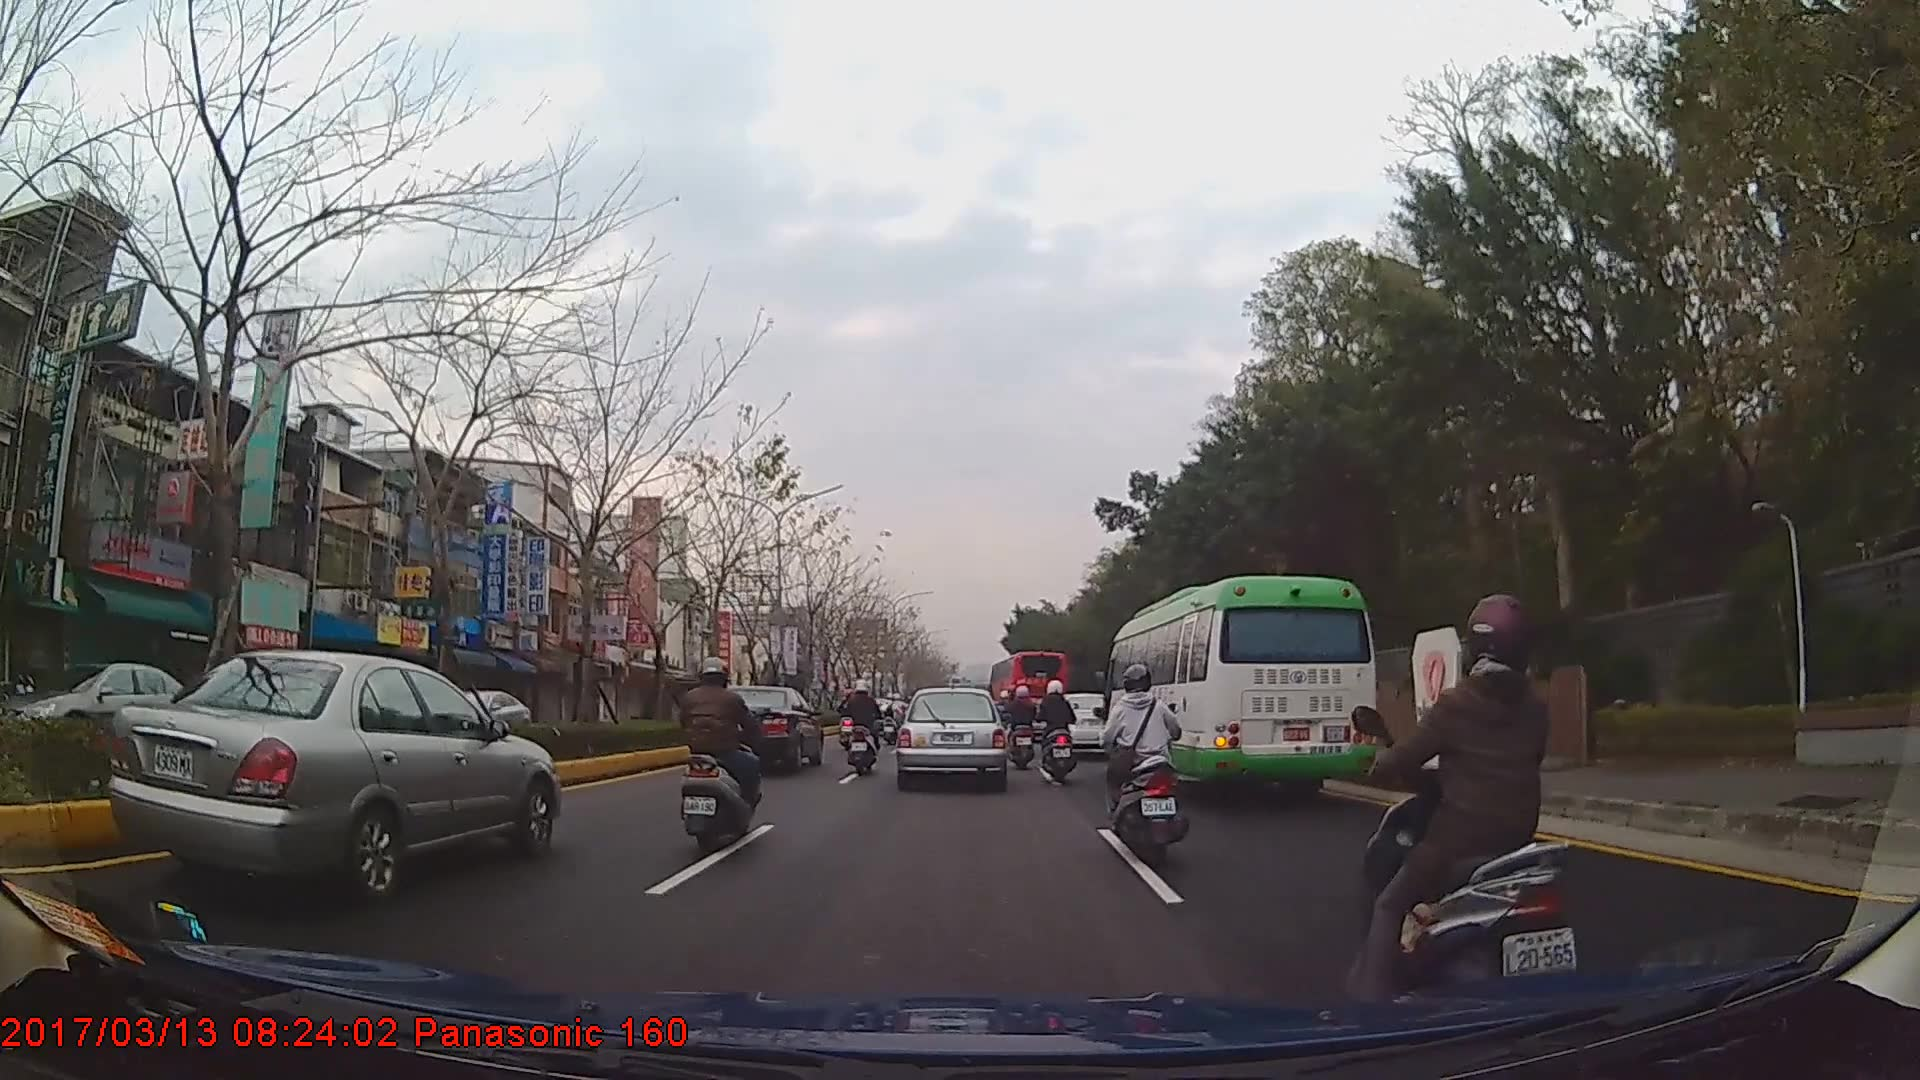rider: (1353, 589, 1583, 1029), (671, 656, 759, 859), (1105, 662, 1190, 868), (1036, 681, 1079, 784), (843, 679, 885, 774), (1006, 683, 1041, 772), (880, 692, 905, 745)
vehicle: (109, 646, 561, 899), (1105, 573, 1376, 802), (0, 658, 202, 749), (696, 681, 826, 775), (895, 685, 1008, 790), (420, 682, 536, 746), (991, 646, 1070, 739)
